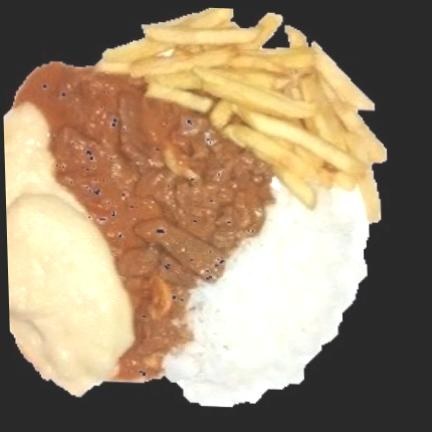potato: (96, 8, 385, 222), (3, 103, 134, 395)
rice: (164, 181, 368, 406)
